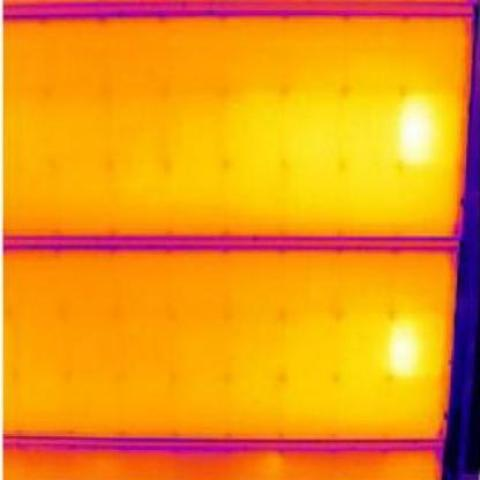fault: (398, 93, 432, 163), (389, 321, 414, 372)
